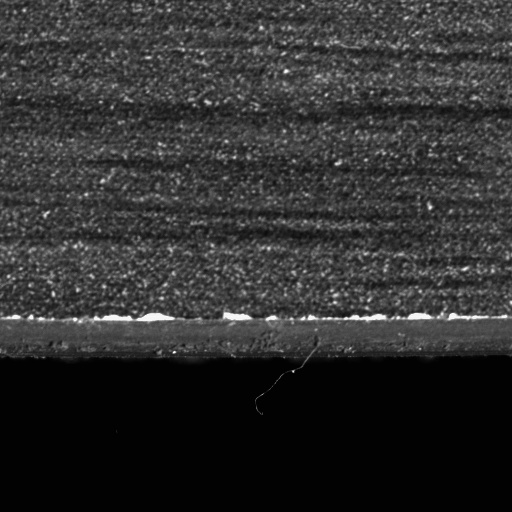huashang: (95, 310, 179, 322), (350, 312, 436, 321), (223, 311, 254, 321)
